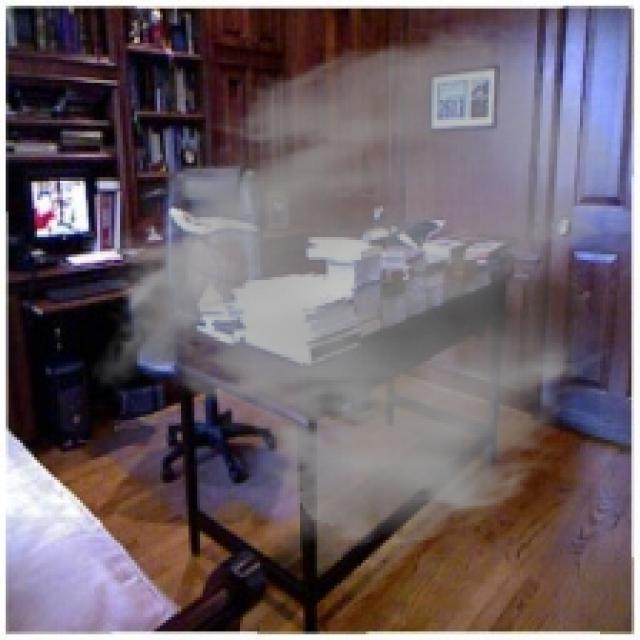Smoke: (89, 19, 626, 552)
